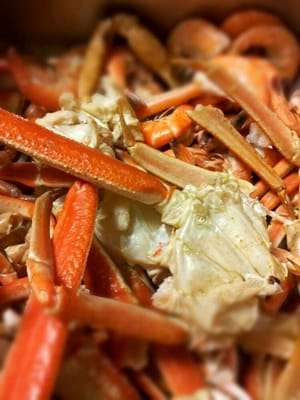pizza: (1, 186, 194, 399), (0, 106, 168, 206), (25, 286, 193, 345), (52, 181, 99, 292)
